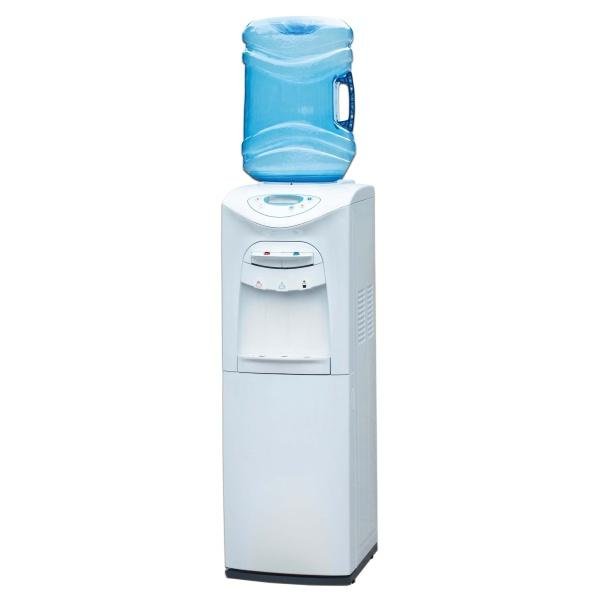Dispenser: (220, 16, 376, 586)
